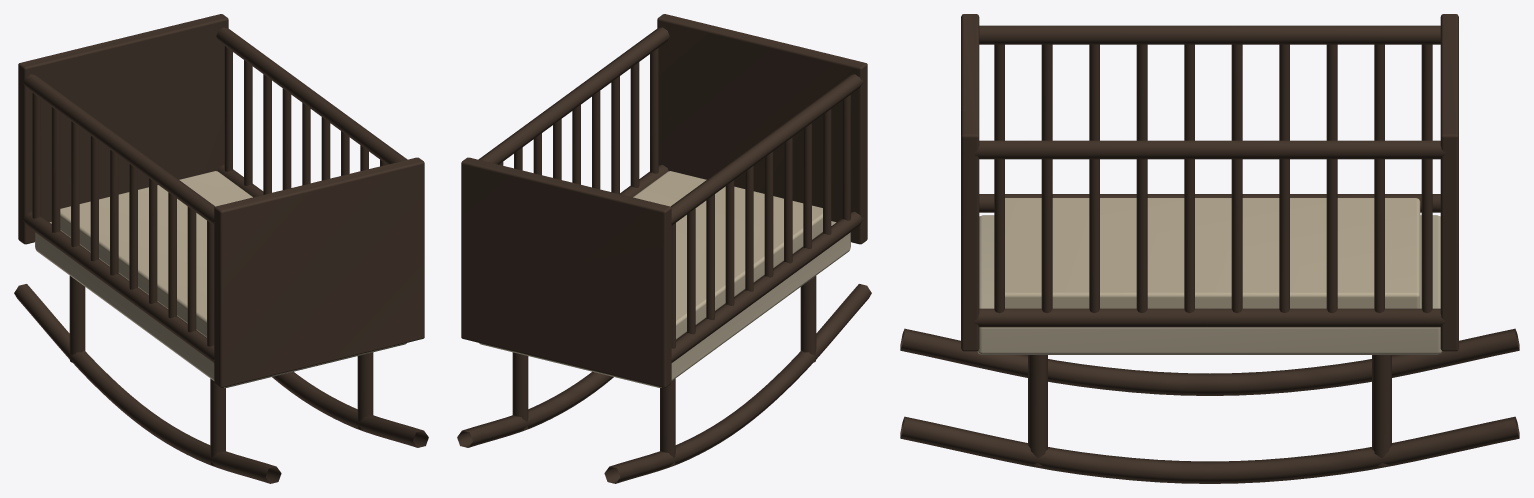
File: prop-cradle-v01.glb
3 views of the same model, side by side, from view 1: azimuth 30°, elevation 25°; view 2: azimuth 150°, elevation 25°; view 3: azimuth 270°, elevation 25° (orthographic). The views are drawn at different scales.
Parts seen in each view (by area): view 1: cradle; view 2: cradle; view 3: cradle.
Boxes of the visible parts, x1,y1,x2,y2 form: cradle: (14, 14, 428, 483); cradle: (457, 14, 871, 483); cradle: (900, 14, 1519, 483).
Bounding box in the file's own units: 0.644 × 0.8867 × 1.37.
